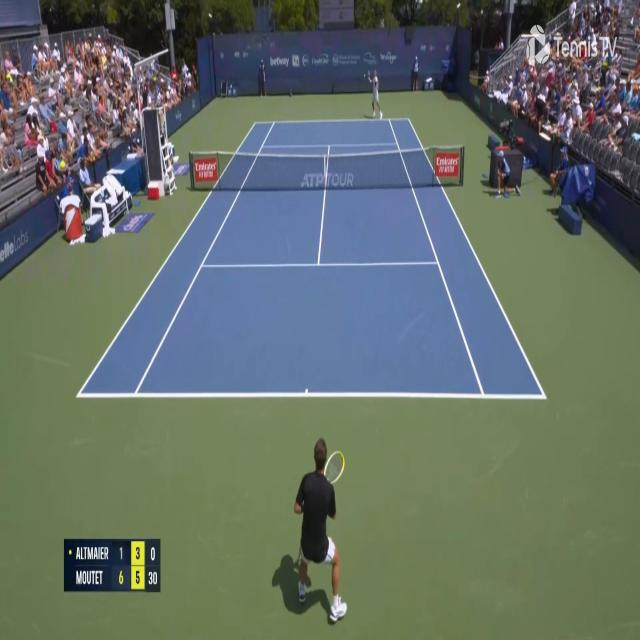tennis-player: (271, 434, 351, 626), (365, 70, 384, 121)
